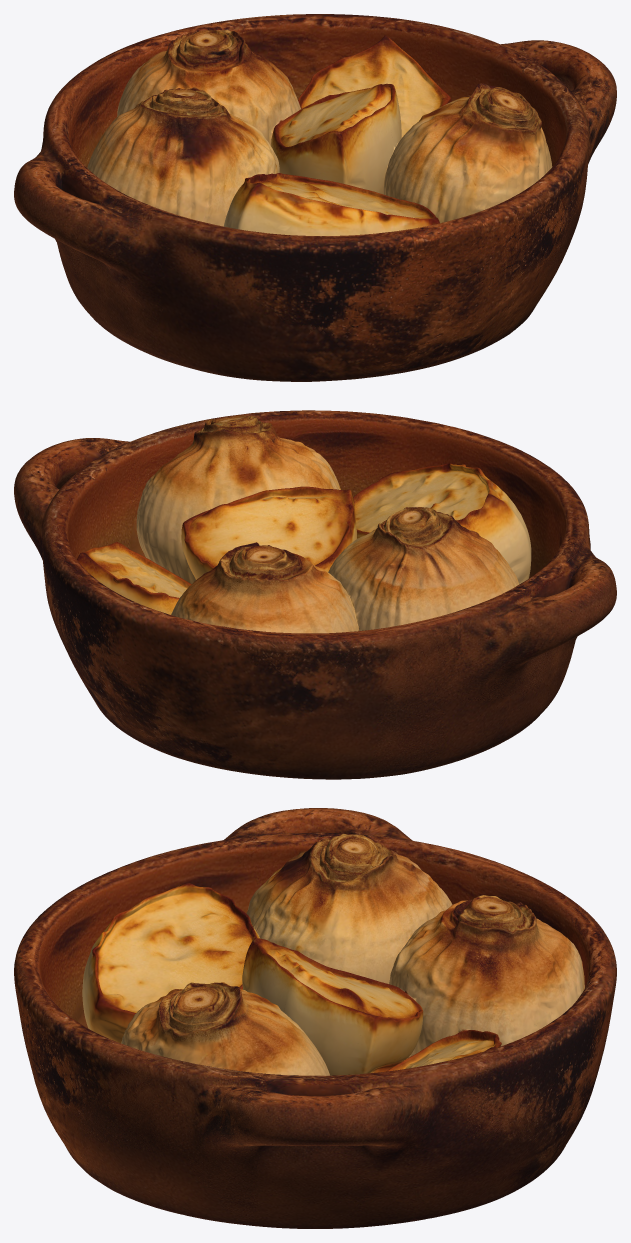
The model's file is food-baked-onions-v1.glb.
The picture shows the model from 3 angles, top to bottom: view 1: azimuth 30°, elevation 25°; view 2: azimuth 150°, elevation 25°; view 3: azimuth 270°, elevation 25°; orthographic projection. The views are drawn at different scales.
Size of the model in its own units: 1.9 by 0.6499 by 1.58.
Materials: 1 (1 with a texture image).
